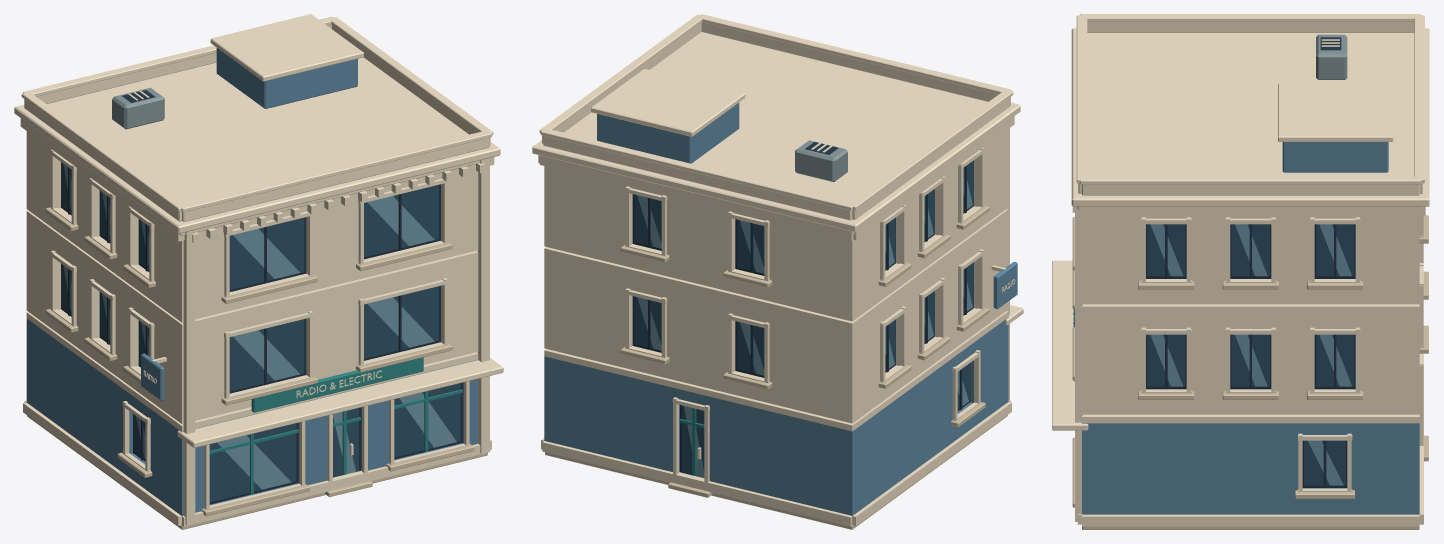
Rendered from radio_shop.glb.
3 views of the same model, side by side, from view 1: azimuth 30°, elevation 25°; view 2: azimuth 150°, elevation 25°; view 3: azimuth 270°, elevation 25° (orthographic). The views are drawn at different scales.
Parts seen in each view (by area): view 1: RadioShop_StaticMesh; view 2: RadioShop_StaticMesh; view 3: RadioShop_StaticMesh.
Boxes of the visible parts, box(x1,y1,x2,y2) form: RadioShop_StaticMesh: box(14, 14, 503, 529); RadioShop_StaticMesh: box(532, 14, 1023, 529); RadioShop_StaticMesh: box(1052, 14, 1429, 529).
Size of the model in its own units: 10.57 by 10.56 by 9.62.
